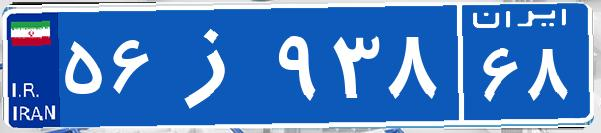3: (330, 28, 385, 110)
5: (57, 26, 110, 107)
6: (475, 38, 525, 113), (110, 28, 158, 105)
8: (385, 28, 445, 110), (525, 38, 570, 115)
9: (273, 28, 330, 110)
ز: (158, 15, 273, 115)
